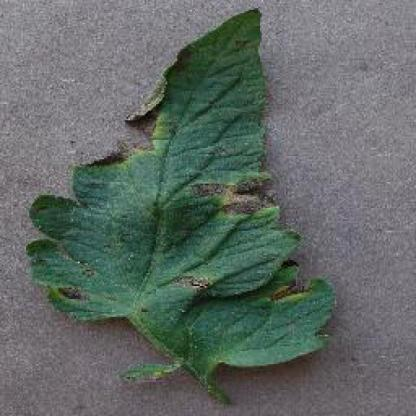Tomato_Blight: (29, 9, 335, 378)
